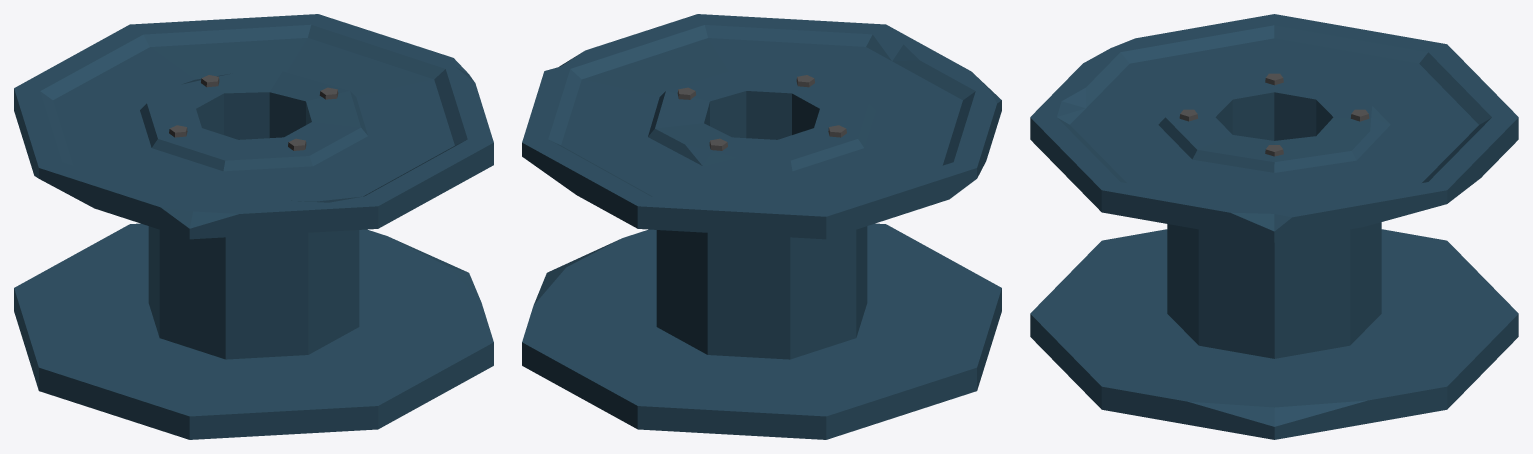
The model's file is SM_Prop_WireSpool_01.fbx.
3 renders of one model, left to right at view 1: azimuth 30°, elevation 25°; view 2: azimuth 150°, elevation 25°; view 3: azimuth 270°, elevation 25°, orthographic.
Visible parts, largest first — view 1: SM_Prop_WireSpool_01; view 2: SM_Prop_WireSpool_01; view 3: SM_Prop_WireSpool_01.
Boxes of the visible parts, box(x1,y1,x2,y2) form: SM_Prop_WireSpool_01: box(14, 14, 493, 439); SM_Prop_WireSpool_01: box(522, 14, 1001, 439); SM_Prop_WireSpool_01: box(1030, 14, 1518, 439).
Bounding box in the file's own units: 96.62 × 50.25 × 96.62.
